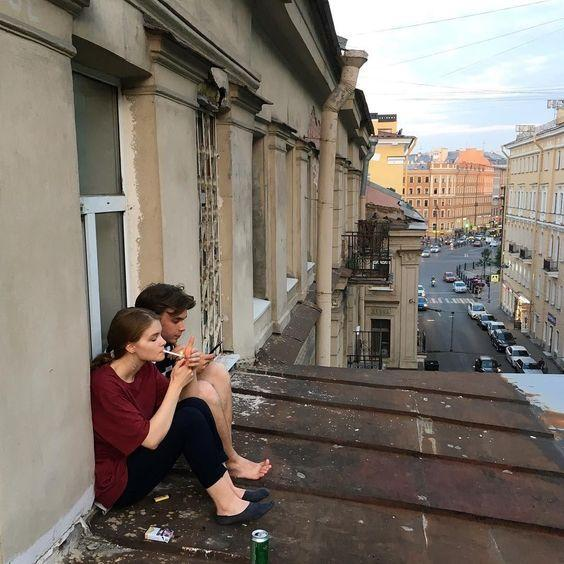cigarette: (163, 349, 184, 358)
